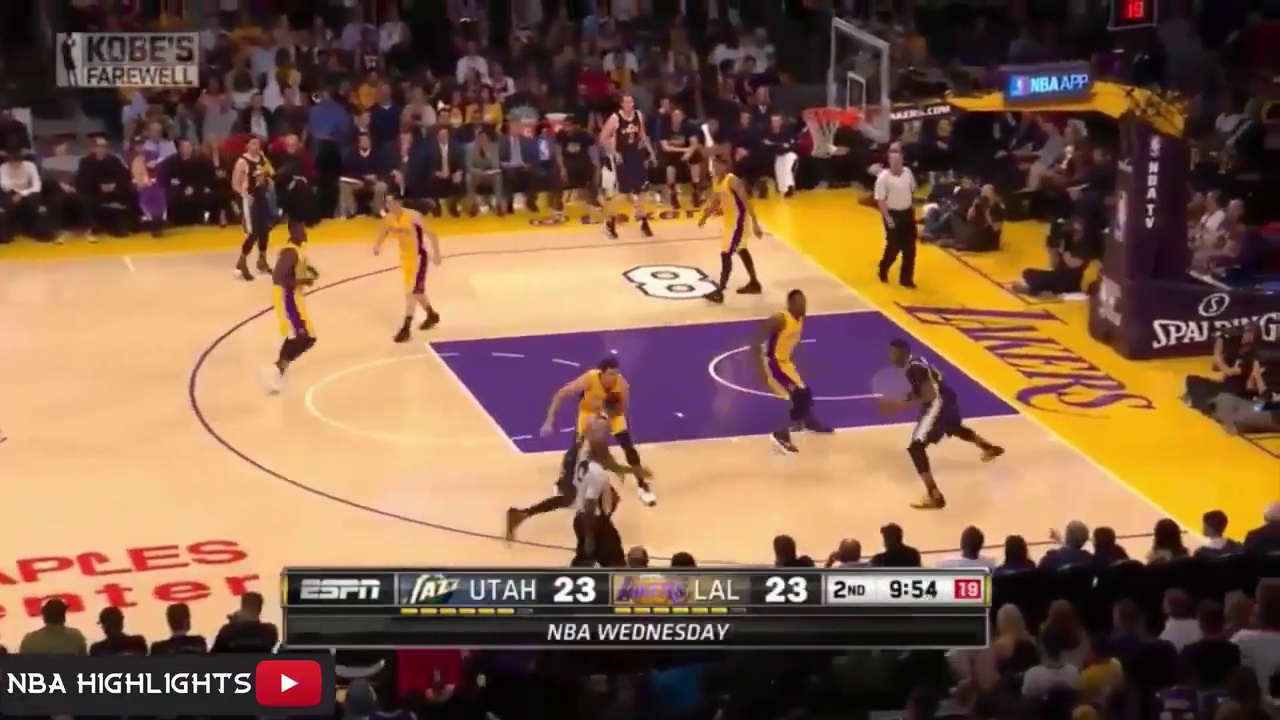jazz: (891, 329, 1001, 514), (522, 401, 626, 523), (593, 92, 670, 238), (232, 129, 282, 279)
lakers: (752, 272, 843, 458), (254, 213, 337, 399), (366, 188, 454, 344), (566, 358, 662, 501), (707, 154, 753, 309)
